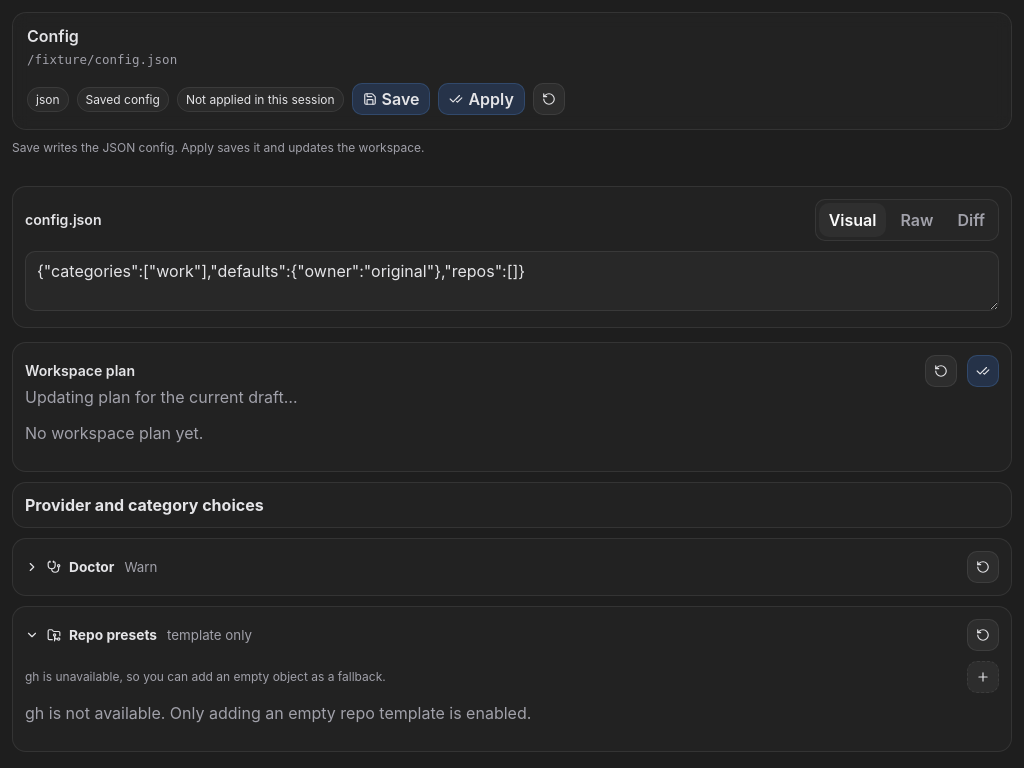
Test case: JSON draft retention › clears a failed save error when a repo is successfully appended
Click the button "Raw" at {"x": 917, "y": 220}, box [890,203,944,237]
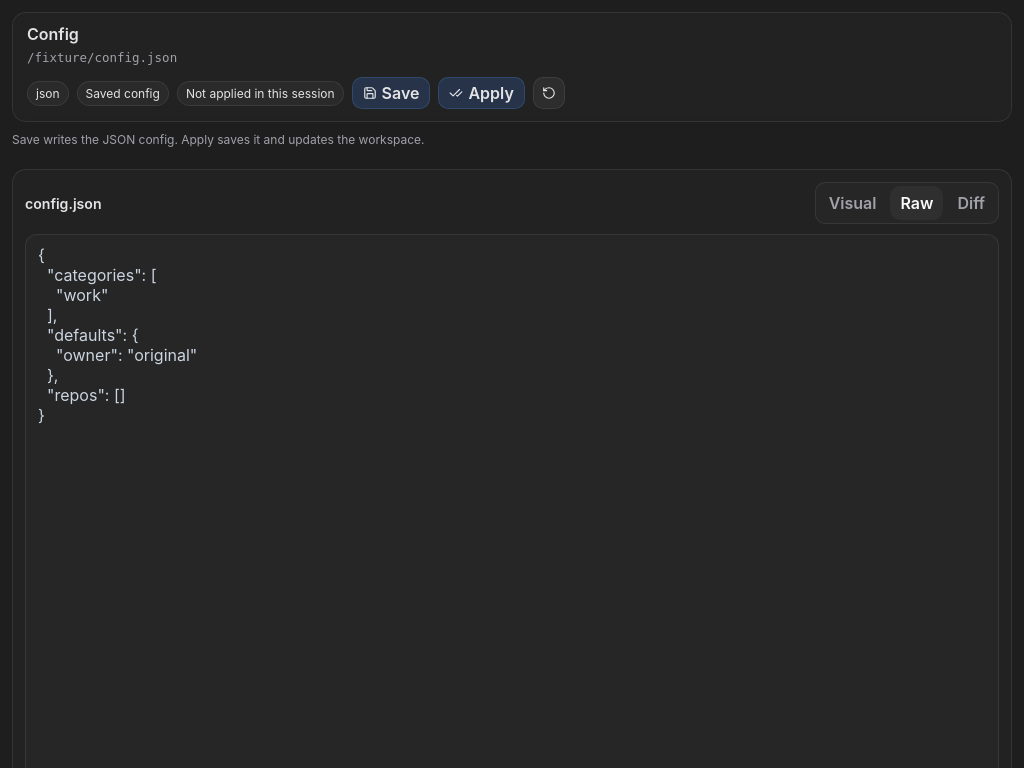
Click the button "Save" at {"x": 391, "y": 93}, box [352,77,430,109]
(page scrolled)
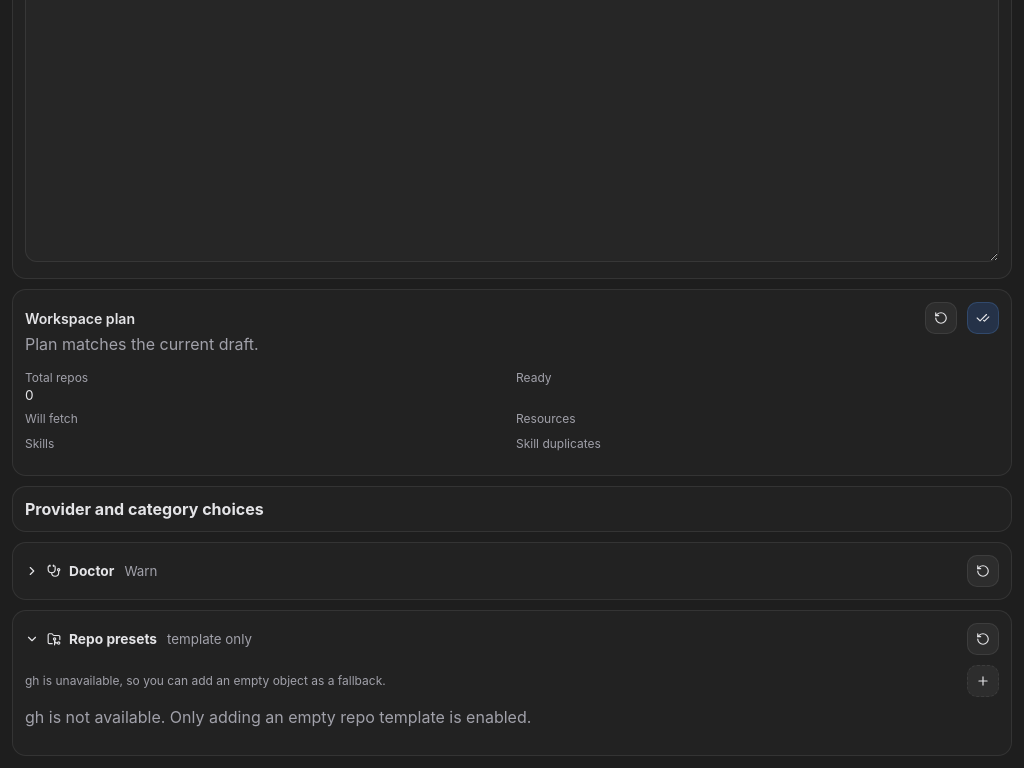
Click the button named "Add empty object" at {"x": 983, "y": 681}, box [967,665,999,697]
(page scrolled)
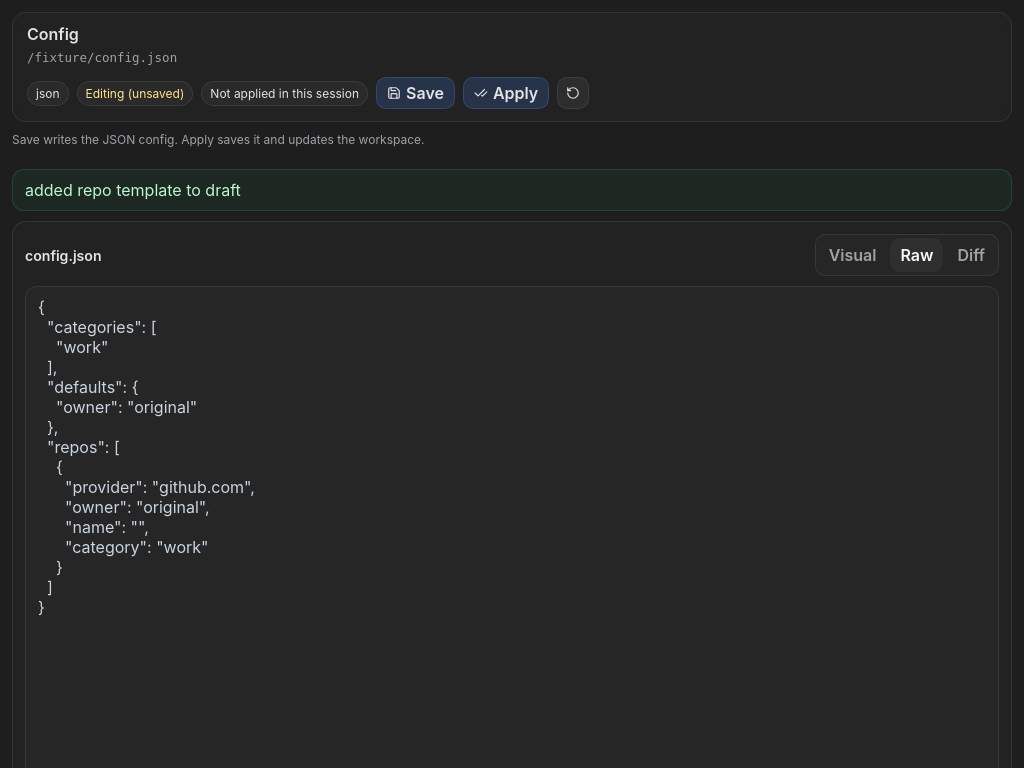
Check: the text with class "success" reads "added repo template to draft", box [25,180,241,200]
